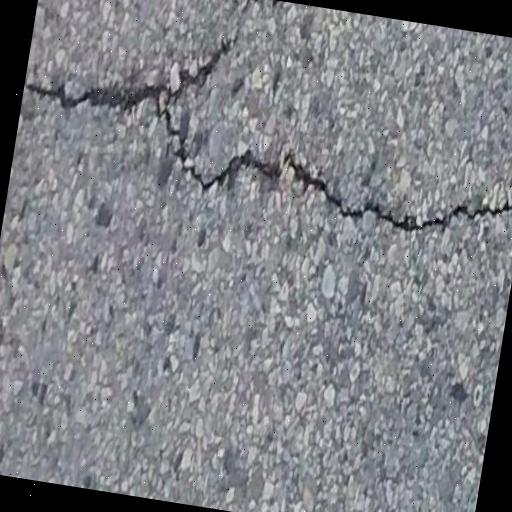spalling: (26, 18, 512, 245)
